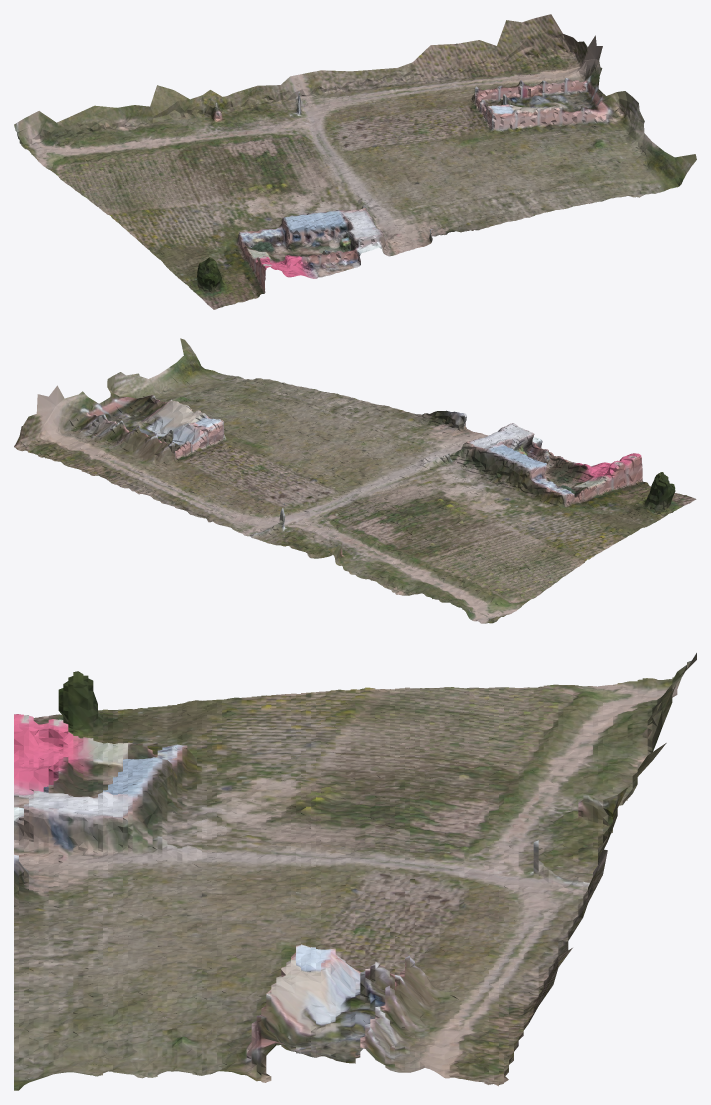
File: MODELO16.GLB
3 renders of one model, top to bottom at view 1: azimuth 30°, elevation 25°; view 2: azimuth 150°, elevation 25°; view 3: azimuth 270°, elevation 25°, orthographic. The views are drawn at different scales.
Bounding box in the file's own units: 100 × 13.24 × 69.
1 material, 1 textured.
